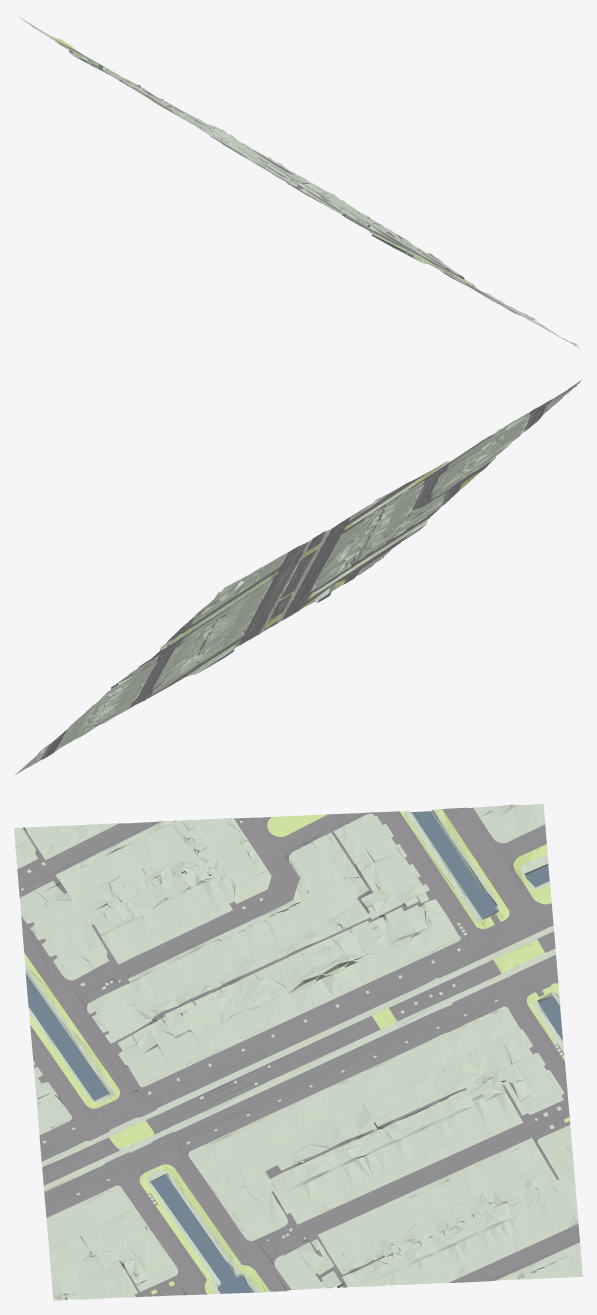
3 views of the same model, one above another, from view 1: azimuth 30°, elevation 25°; view 2: azimuth 150°, elevation 25°; view 3: azimuth 270°, elevation 25° (orthographic). The views are drawn at different scales.
Size of the model in its own units: 218 by 157 by 268.
